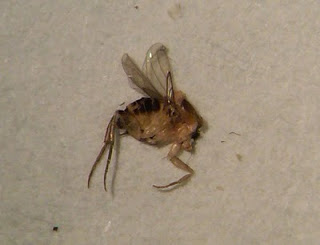phorid fly: (76, 36, 223, 205)
